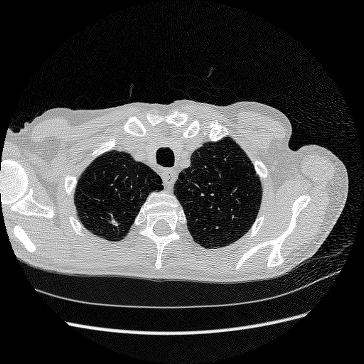nodule: (110, 218, 118, 226)
